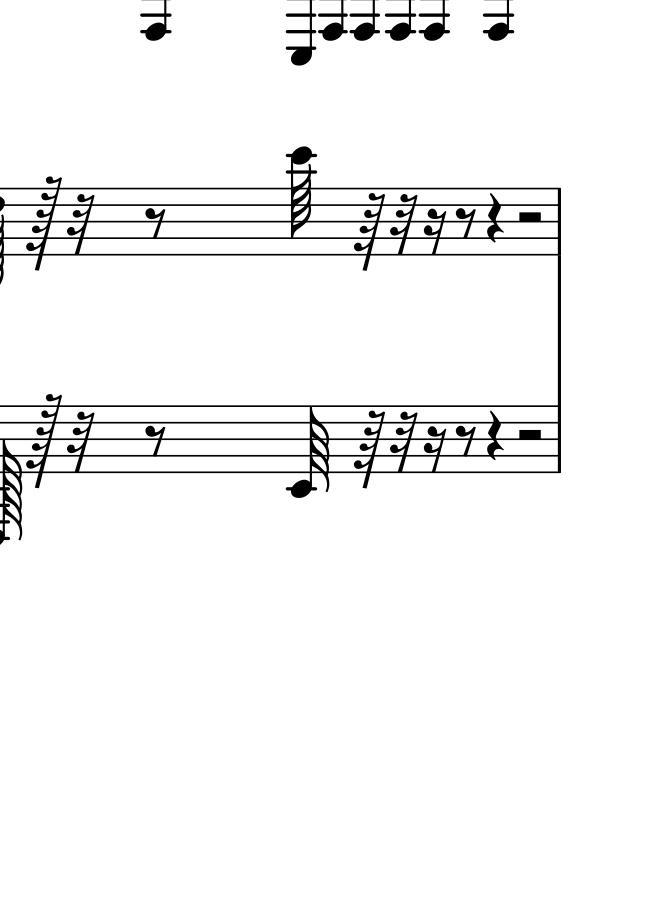64_-2: (289, 404, 329, 498)
64_12: (286, 145, 317, 256)
Rests128: (26, 392, 63, 488), (26, 176, 63, 272)
Rests16: (423, 424, 447, 475), (423, 207, 447, 257)
Rests2: (516, 426, 545, 445), (515, 208, 544, 226)
Rests32: (390, 407, 420, 470), (390, 192, 419, 255), (66, 192, 94, 257), (66, 410, 94, 475)
Rests4: (484, 409, 504, 464), (484, 192, 503, 246)
Rests64: (353, 189, 387, 272), (353, 406, 387, 489)
Rests8: (143, 205, 167, 239), (143, 423, 166, 457), (455, 205, 476, 239), (455, 423, 476, 457)
Single_barline: (551, 189, 568, 254), (551, 407, 567, 471)
